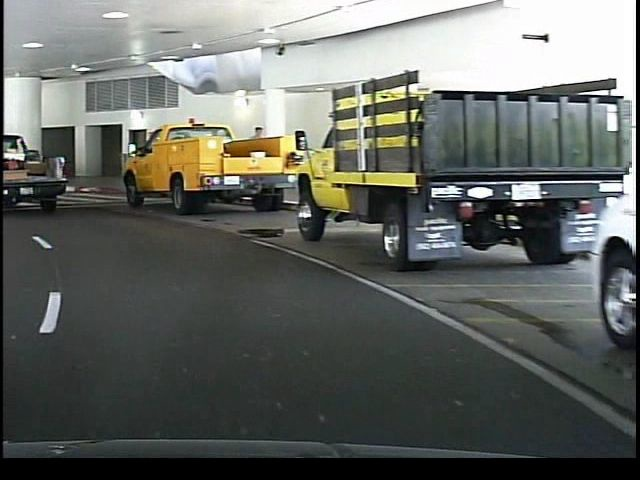person: (244, 122, 267, 198)
